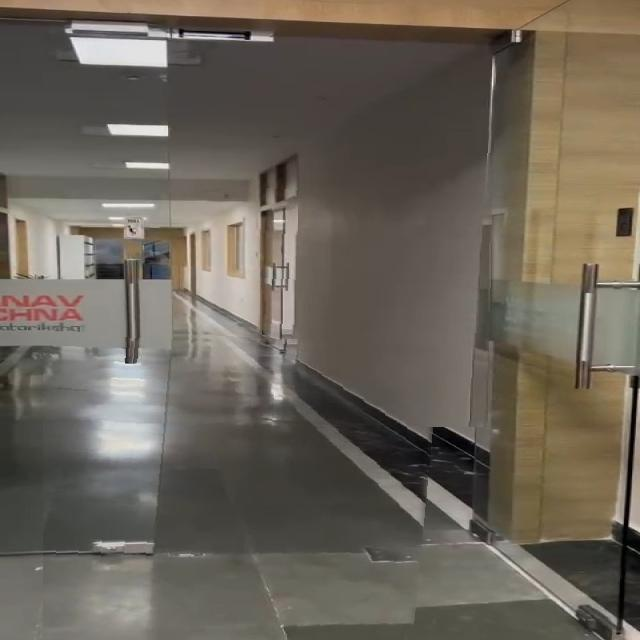floor: (43, 328, 441, 640)
wall: (262, 120, 494, 427)
